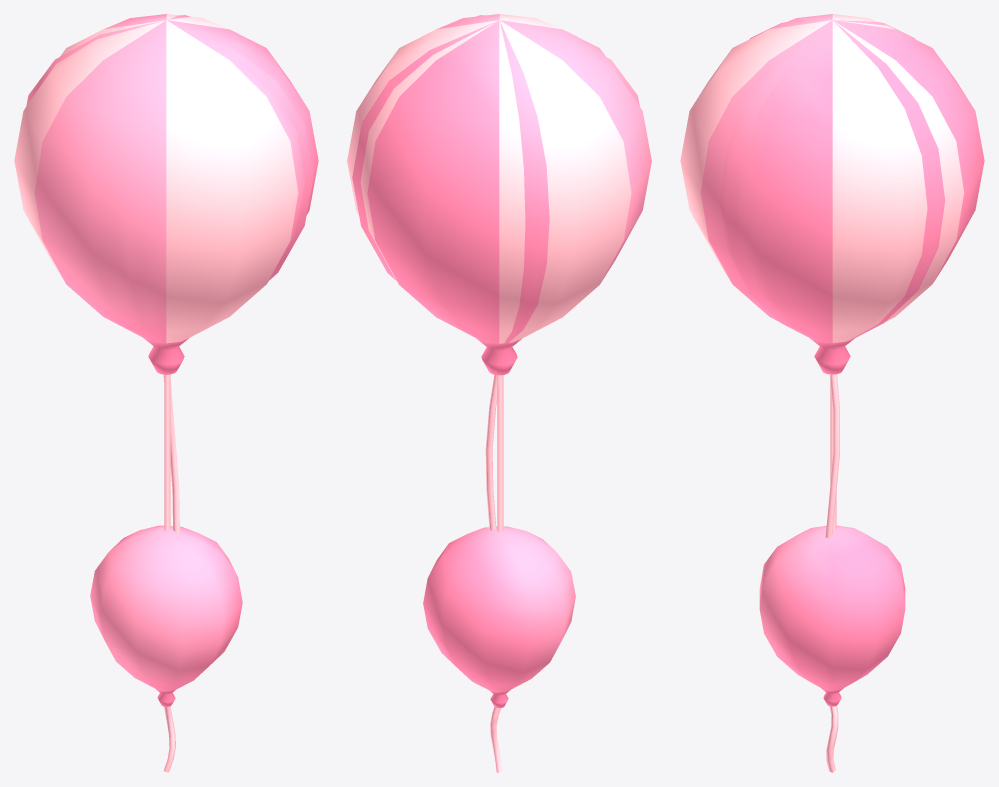
Rendered from pu-balloon.glb.
3 views of the same model, side by side, from view 1: azimuth 30°, elevation 25°; view 2: azimuth 150°, elevation 25°; view 3: azimuth 270°, elevation 25° (orthographic).
Visible parts, largest first — view 1: balloon_ride_hi, balloon_pickup, balloon_ride_lo; view 2: balloon_ride_hi, balloon_pickup, balloon_ride_lo; view 3: balloon_ride_hi, balloon_pickup, balloon_ride_lo.
Part boxes in pixels (x1,y1,x2,y2): balloon_ride_hi: (14,14,318,532); balloon_pickup: (90,525,242,772); balloon_ride_lo: (26,15,313,530); balloon_ride_hi: (347,14,651,530); balloon_pickup: (423,526,575,772); balloon_ride_lo: (352,15,639,531); balloon_ride_hi: (680,14,984,538); balloon_pickup: (759,525,905,772); balloon_ride_lo: (719,20,945,529).
Bounding box in the file's own units: 1 × 2.73 × 1.
